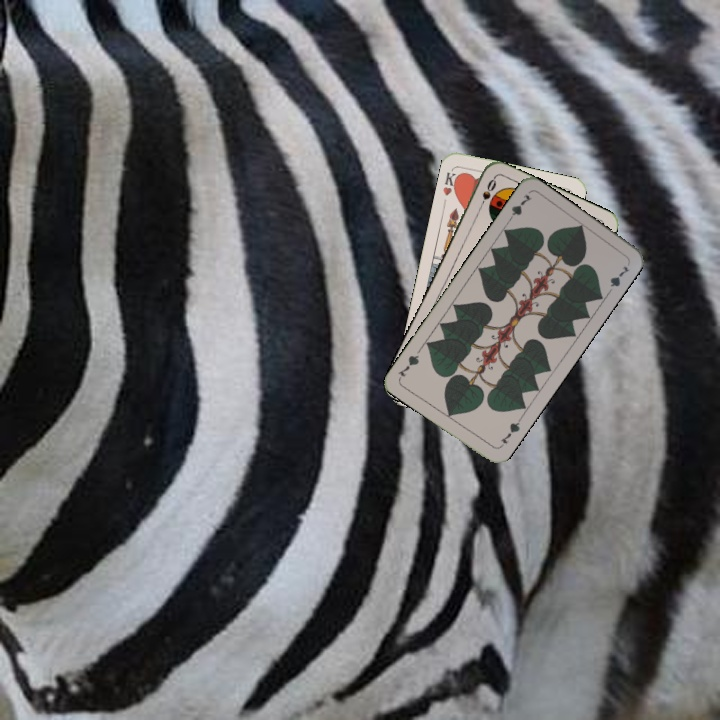G7: (503, 190, 534, 226), (496, 415, 524, 450)
HK: (439, 166, 462, 198)
SO: (475, 174, 499, 213)
